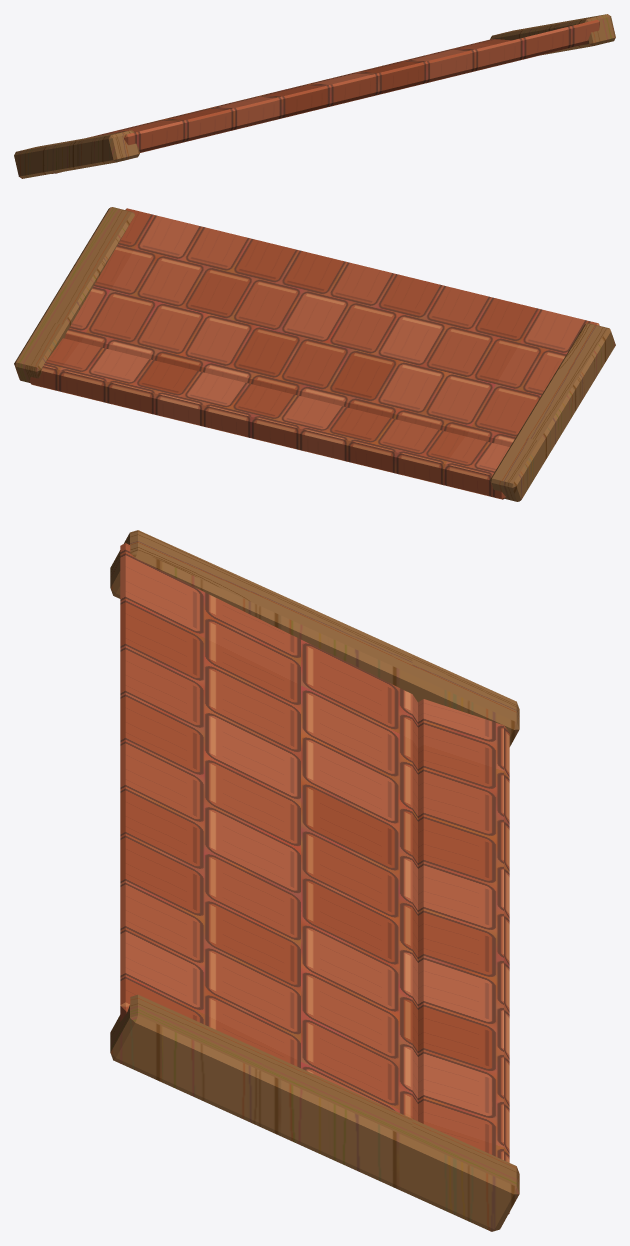
Rendered from SM_HH_V2_Roof_Porch.fbx.
3 renders of one model, top to bottom at view 1: azimuth 30°, elevation 25°; view 2: azimuth 150°, elevation 25°; view 3: azimuth 270°, elevation 25°, orthographic. The views are drawn at different scales.
Parts seen in each view (by area): view 1: HH_V2_Roof_Porch; view 2: HH_V2_Roof_Porch; view 3: HH_V2_Roof_Porch.
Boxes of the visible parts, left/top/right/bottom form: HH_V2_Roof_Porch: left=14, top=14, right=615, bottom=178; HH_V2_Roof_Porch: left=14, top=207, right=615, bottom=501; HH_V2_Roof_Porch: left=110, top=530, right=519, bottom=1231.
Size of the model in its own units: 1.47 by 4.17 by 0.8592.
